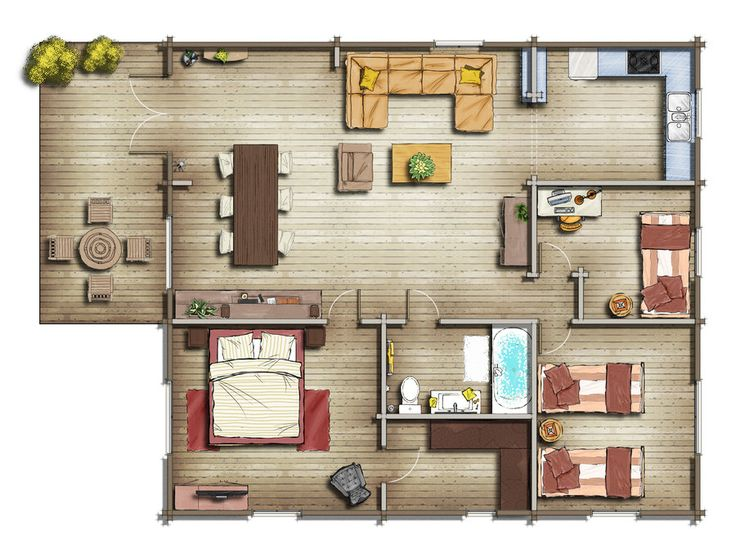door: (326, 287, 367, 316)
room: (170, 42, 538, 325), (162, 322, 386, 520), (39, 41, 173, 327), (532, 318, 704, 520), (533, 42, 702, 186), (532, 181, 701, 325), (382, 320, 536, 420)
